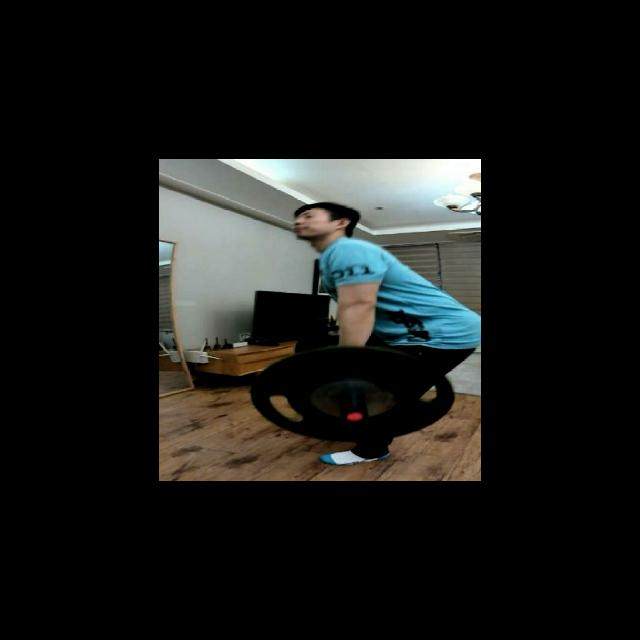barbell: (248, 341, 456, 445)
